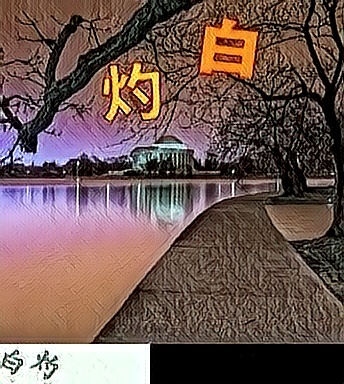B0D7: (195, 14, 258, 81)
D7C6: (99, 53, 162, 120)
